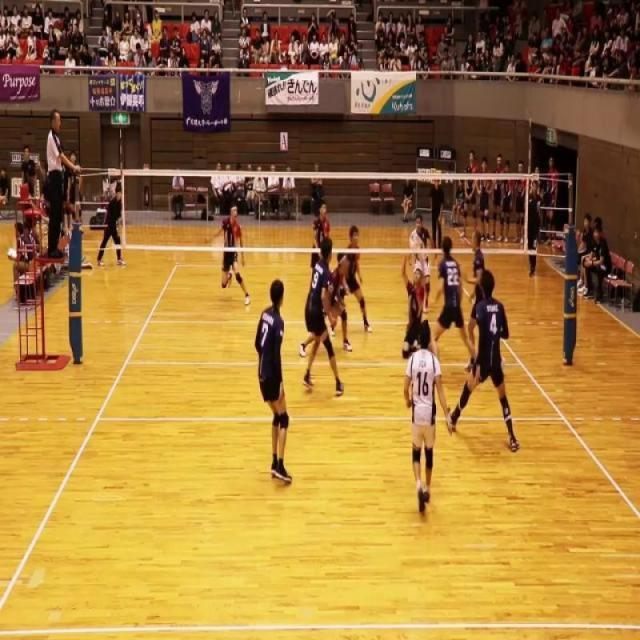volleyball: (410, 240, 417, 251)
